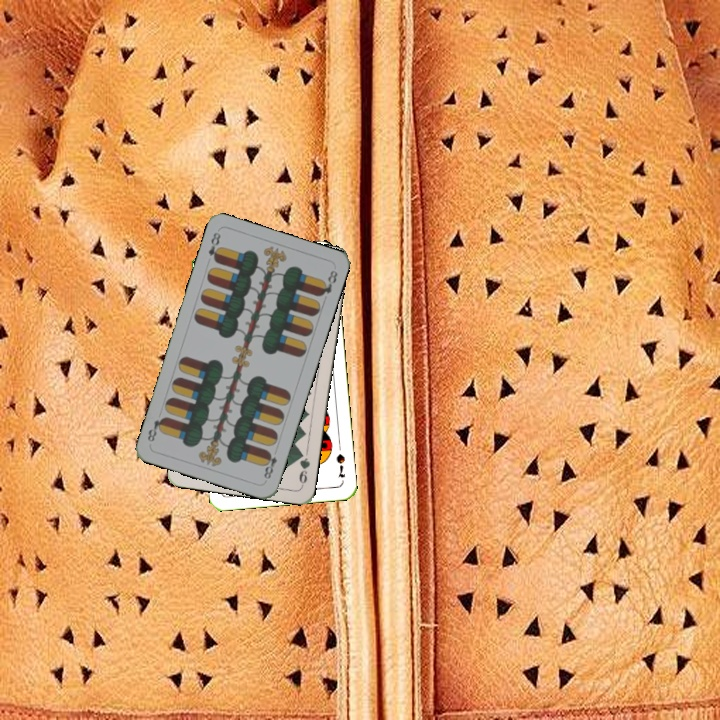E8: (204, 228, 224, 265), (260, 447, 280, 483)
G9: (295, 447, 313, 488)
S7: (332, 450, 347, 480)
